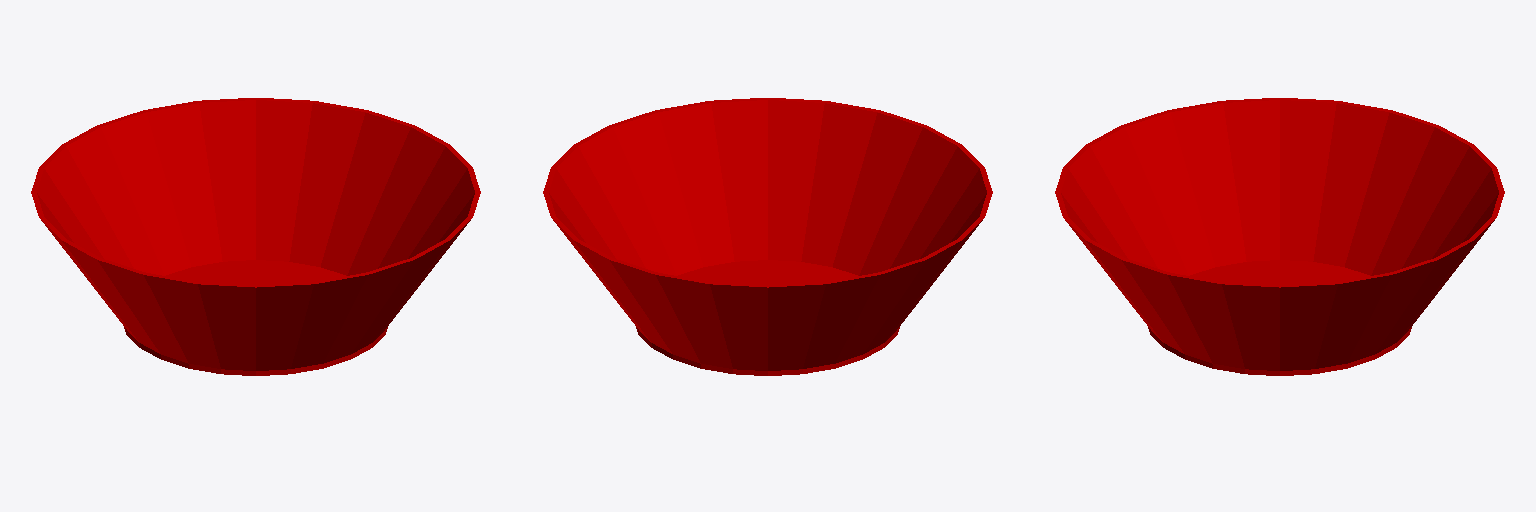
3 renders of one model, left to right at view 1: azimuth 30°, elevation 25°; view 2: azimuth 150°, elevation 25°; view 3: azimuth 270°, elevation 25°, orthographic.
Parts seen in each view (by area): view 1: instance_0.002_ID21.004, instance_0_ID5.007; view 2: instance_0.002_ID21.004, instance_0_ID5.007; view 3: instance_0.002_ID21.004, instance_0_ID5.007.
Boxes of the visible parts, <box> form: instance_0.002_ID21.004: <box>37,100,474,284</box>; instance_0_ID5.007: <box>31,98,480,375</box>; instance_0.002_ID21.004: <box>549,100,986,284</box>; instance_0_ID5.007: <box>543,98,992,375</box>; instance_0.002_ID21.004: <box>1061,100,1498,284</box>; instance_0_ID5.007: <box>1055,98,1504,375</box>.
Size of the model in its own units: 0.5098 by 0.1587 by 0.5098.